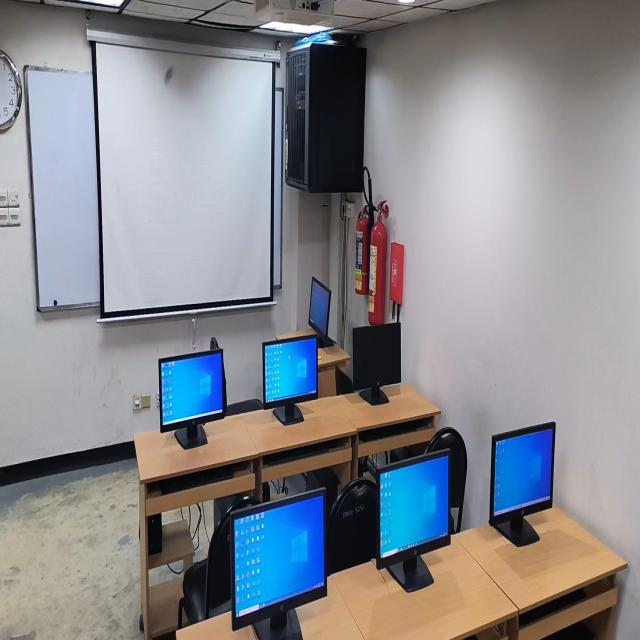Chair: (179, 498, 258, 624), (329, 477, 377, 574), (426, 427, 467, 531)
Fire Extinguisher: (368, 201, 389, 325), (355, 205, 370, 295)
Keyboard: (149, 463, 245, 494), (519, 588, 588, 628), (263, 439, 347, 466), (359, 418, 431, 442)
Light: (260, 21, 332, 34)
Monitor: (230, 488, 327, 639), (376, 450, 451, 593), (489, 423, 556, 546), (159, 348, 226, 449), (263, 332, 318, 424), (352, 323, 401, 404), (308, 276, 332, 344)
Projector: (271, 0, 334, 15), (256, 0, 264, 10)
